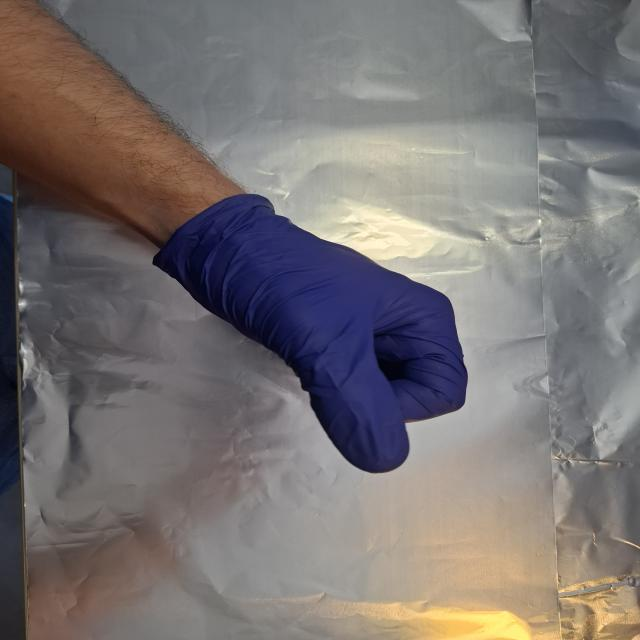glove_on: (158, 194, 472, 477)
